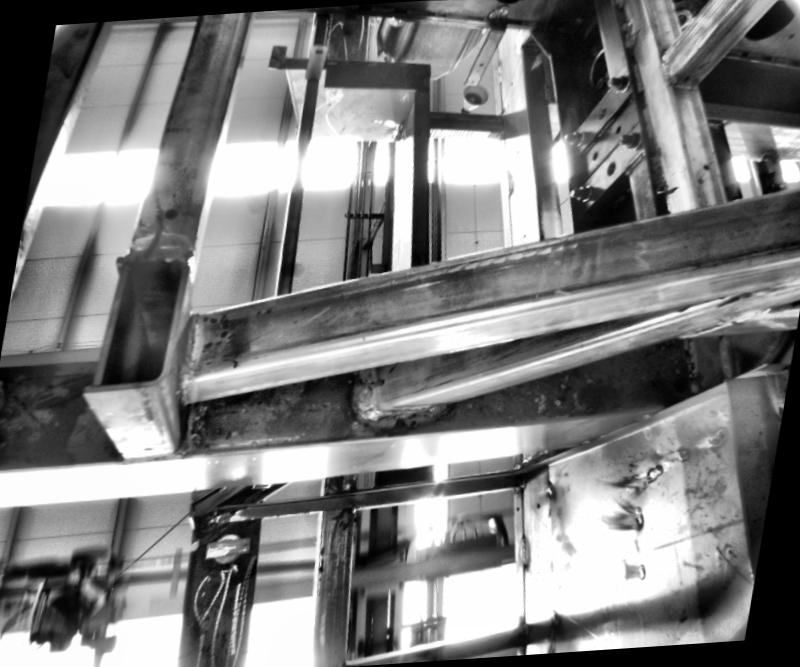bolt: (602, 70, 631, 95), (618, 130, 647, 148), (564, 183, 591, 202), (560, 130, 583, 146)
bracket: (551, 60, 664, 218), (466, 2, 508, 92), (304, 32, 328, 84)
hole: (160, 205, 181, 224), (372, 376, 388, 388), (595, 105, 608, 119), (605, 160, 616, 175), (141, 444, 152, 453), (613, 124, 621, 135), (589, 150, 597, 160), (702, 162, 710, 171), (682, 75, 692, 80), (477, 62, 484, 68), (534, 502, 541, 508), (314, 49, 322, 54), (469, 78, 475, 82), (514, 506, 518, 510), (522, 234, 524, 237), (510, 81, 512, 84)
welding: (351, 401, 446, 422), (180, 312, 204, 380), (352, 365, 382, 419), (516, 535, 530, 568), (666, 78, 698, 92), (492, 63, 505, 85), (486, 6, 508, 17)
